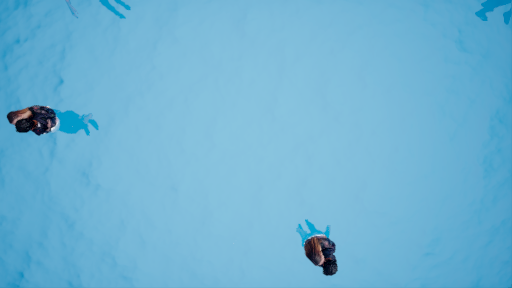person: (2, 104, 104, 142), (289, 216, 347, 276)
